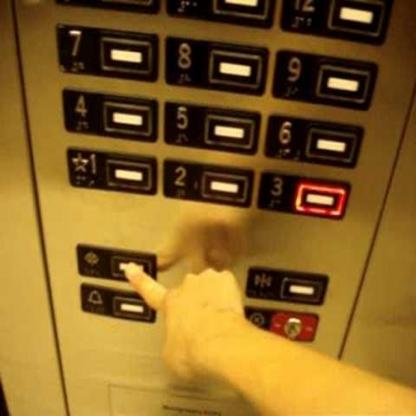2: (160, 153, 255, 215)
3: (255, 166, 352, 223)
4: (58, 85, 160, 145)
5: (161, 97, 261, 159)
6: (262, 110, 368, 169)
7: (54, 20, 159, 86)
8: (162, 30, 270, 100)
9: (269, 44, 380, 113)
alarm: (78, 280, 158, 324)
close: (245, 262, 330, 308)
open: (72, 241, 158, 283)
s1: (64, 143, 158, 198)
stop: (241, 302, 319, 345)
